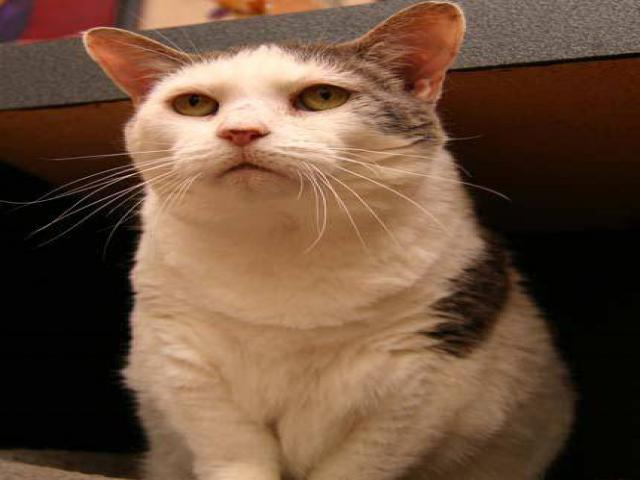cat: (59, 4, 587, 477)
